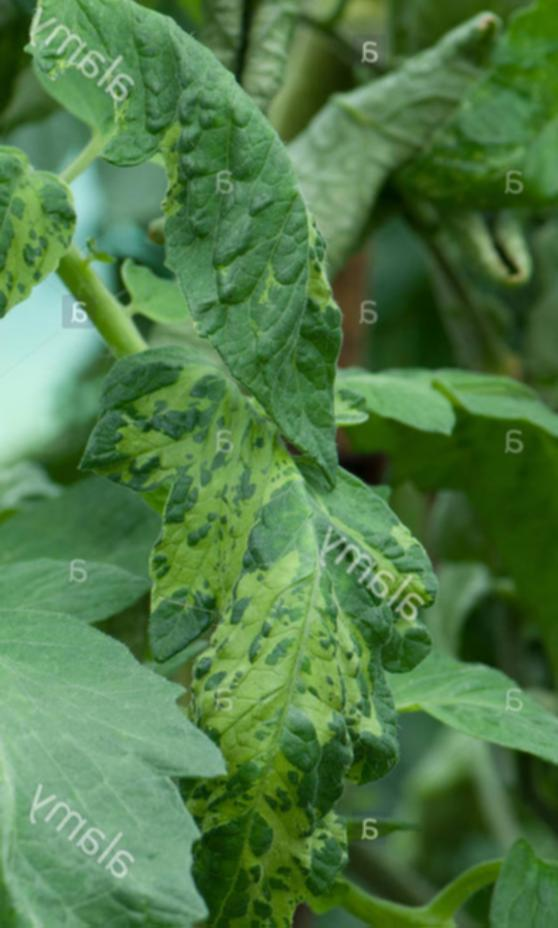Tomato leaf mosaic virus: (114, 294, 433, 928), (28, 0, 379, 466), (0, 582, 230, 928), (0, 155, 109, 345)
